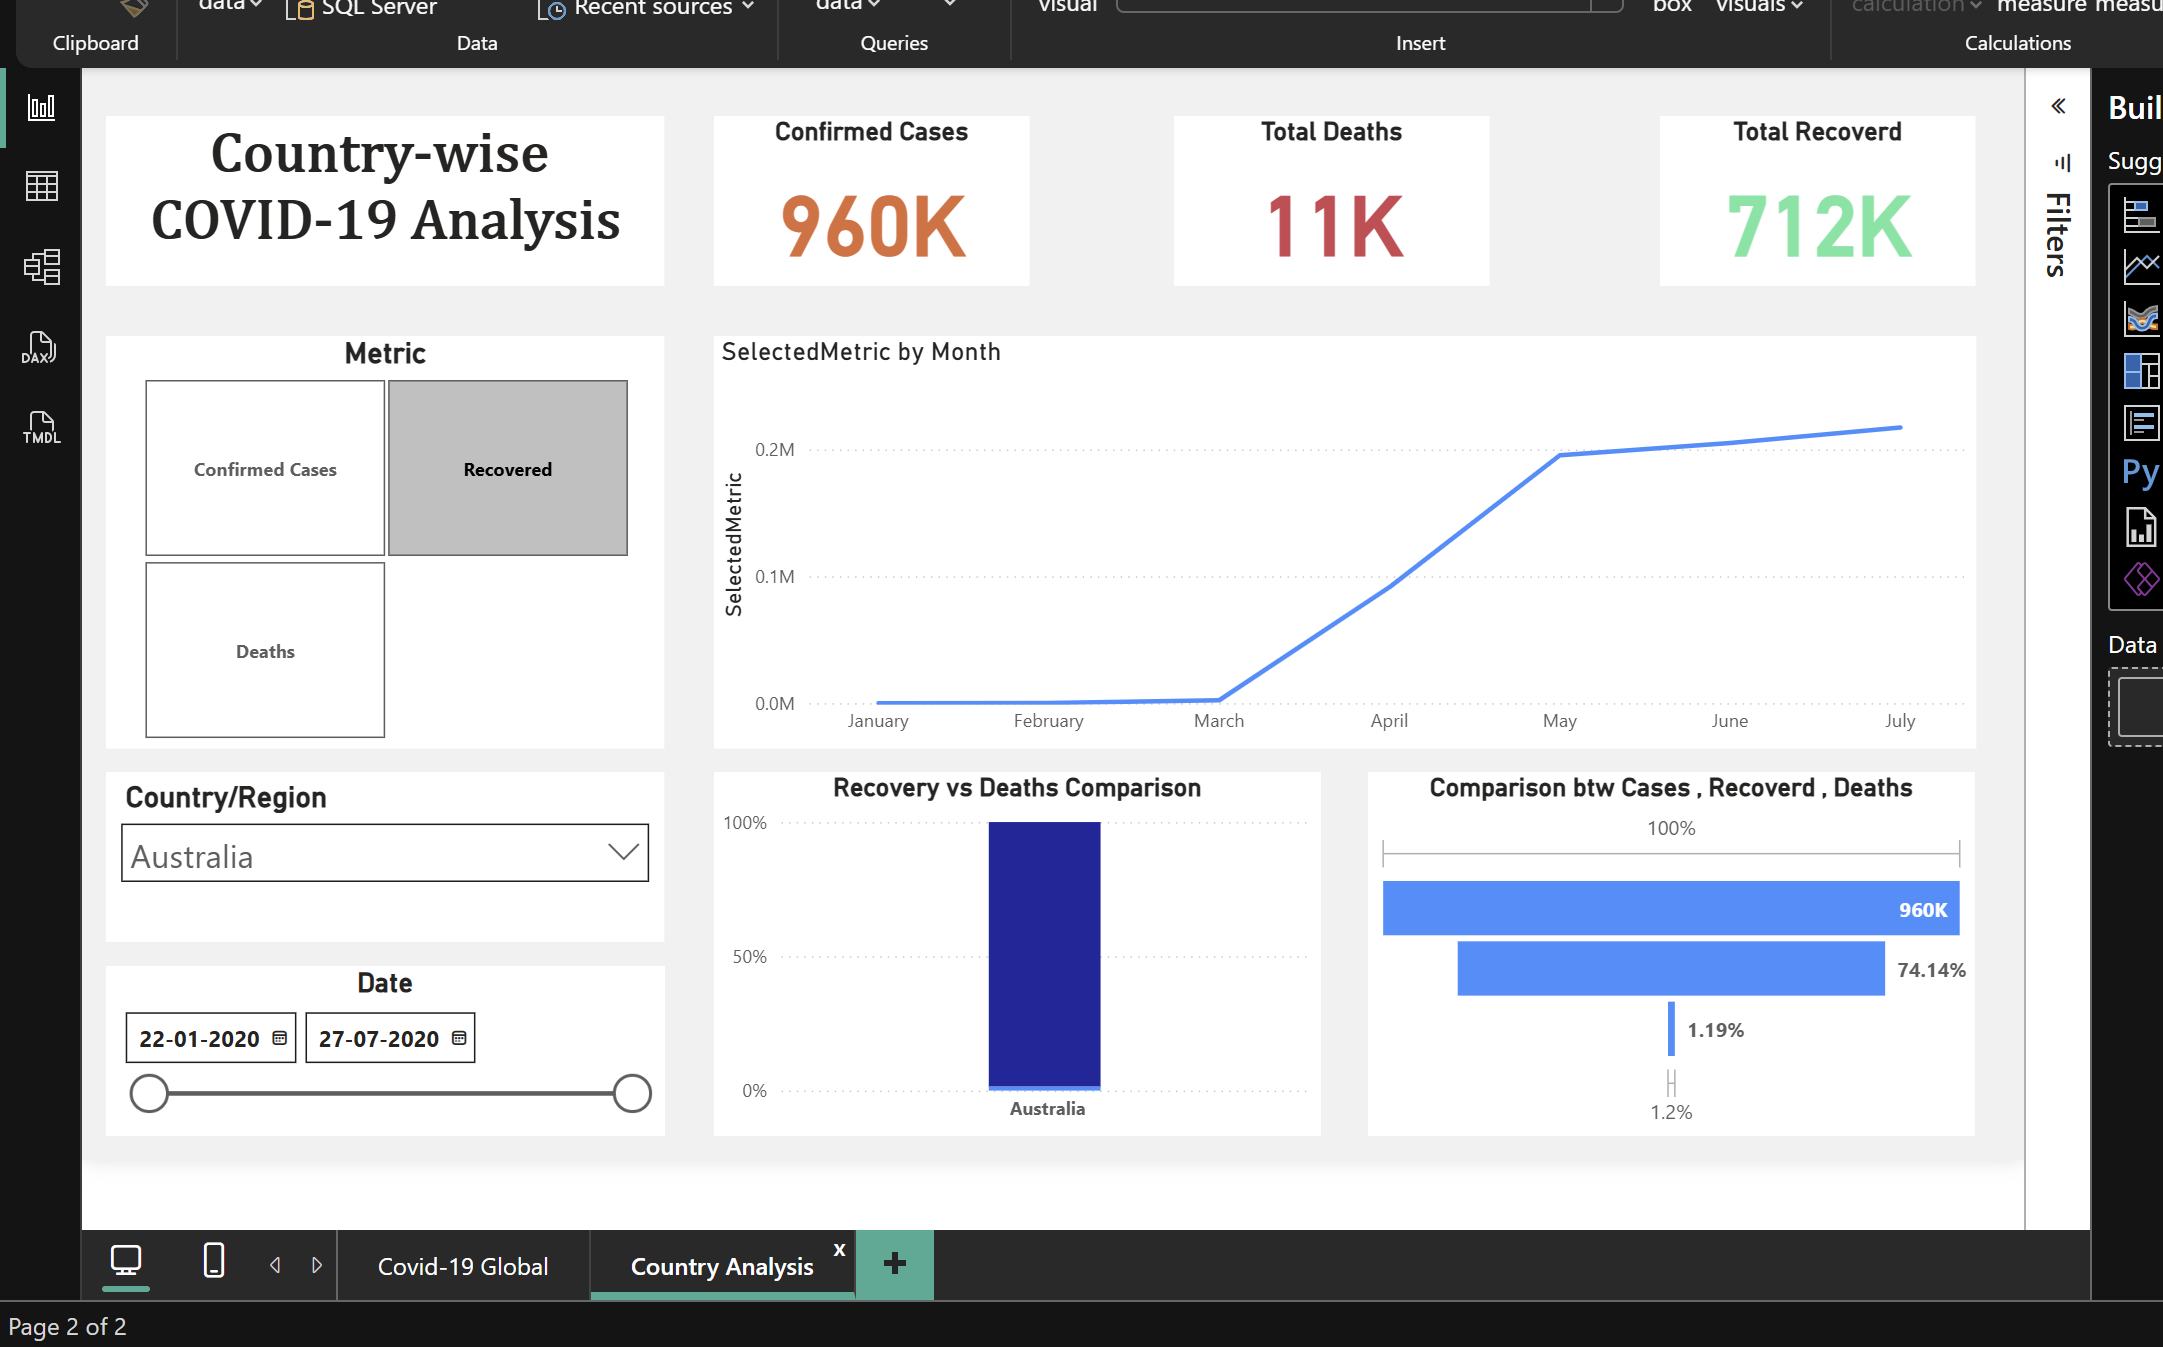

The dashboard page shown, as its layout file describes it:
{"tool":"powerbi","page":{"name":" Country Analysis","canvas":[1280,720],"ordinal":1},"visuals":[{"type":"lineChart","fields":{"Category":["full_grouped.Date.Variation.Date Hierarchy.Month"],"Y":["MetricSelector.SelectedMetric"]},"box":[416,176,832,272],"z":0},{"type":"slicer","title":"Metric","fields":{"Values":["MetricSelector.Metric"]},"box":[16,176,368,272],"z":1000},{"type":"slicer","fields":{"Values":["full_grouped.Country/Region"]},"box":[16,464,368,112],"z":2000},{"type":"card","title":"Total Deaths","fields":{"Values":["Sum(full_grouped.Deaths)"]},"box":[720,32,208,112],"z":3000},{"type":"card","title":"Confirmed Cases","fields":{"Values":["Sum(full_grouped.Confirmed Cases)"]},"box":[416,32,208,112],"z":4000},{"type":"card","title":"Total Recoverd","fields":{"Values":["Sum(full_grouped.Recovered)"]},"box":[1040,32,208,112],"z":5000},{"type":"hundredPercentStackedColumnChart","title":"Recovery vs Deaths Comparison","fields":{"Category":["full_grouped.Country/Region"],"Y":["Sum(full_grouped.Deaths)","Sum(full_grouped.Recovered)"]},"box":[416,464,400,240],"z":6000},{"type":"slicer","title":"Date","fields":{"Values":["full_grouped.Date"]},"box":[16,592,368,112],"z":7000},{"type":"funnel","title":"Comparison btw Cases , Recoverd , Deaths","fields":{"Y":["Sum(full_grouped.Confirmed Cases)","Sum(full_grouped.Recovered)","Sum(full_grouped.Deaths)"]},"box":[848,464,400,240],"z":8000},{"type":"textbox","box":[16,32,368,112],"z":9000}]}

Visuals, with their boxes on the page's 1280x720 design canvas (x1, y1, x2, y2). These are canvas units, not pixel positions in the 2163x1347 screenshot, which may show the page scaled, cropped or inside an application window:
lineChart - full_grouped.Date.Variation.Date Hierarchy.Month x MetricSelector.SelectedMetric: (left=416, top=176, right=1248, bottom=448)
"Metric" slicer: (left=16, top=176, right=384, bottom=448)
slicer - full_grouped.Country/Region: (left=16, top=464, right=384, bottom=576)
"Total Deaths" card: (left=720, top=32, right=928, bottom=144)
"Confirmed Cases" card: (left=416, top=32, right=624, bottom=144)
"Total Recoverd" card: (left=1040, top=32, right=1248, bottom=144)
"Recovery vs Deaths Comparison" hundredPercentStackedColumnChart: (left=416, top=464, right=816, bottom=704)
"Date" slicer: (left=16, top=592, right=384, bottom=704)
"Comparison btw Cases , Recoverd , Deaths" funnel: (left=848, top=464, right=1248, bottom=704)
textbox: (left=16, top=32, right=384, bottom=144)
